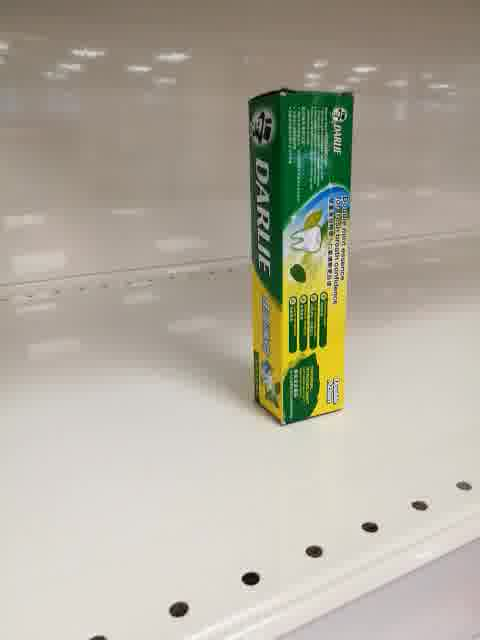toothpaste: (248, 87, 353, 426)
